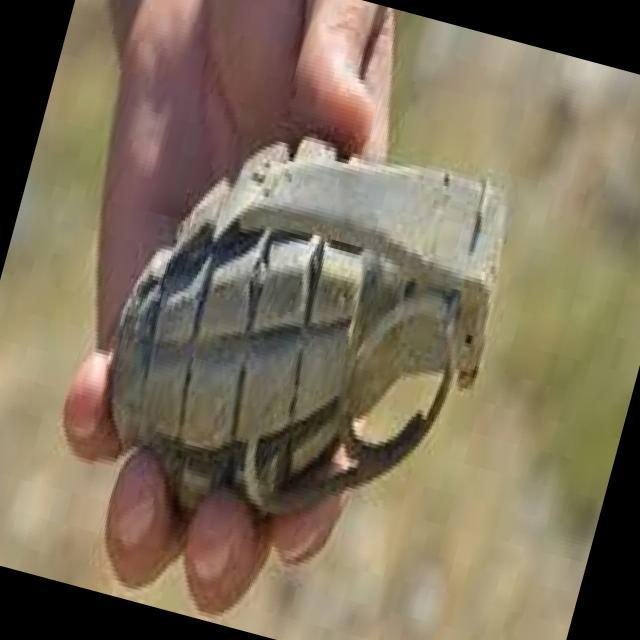grenade: (78, 88, 534, 570)
